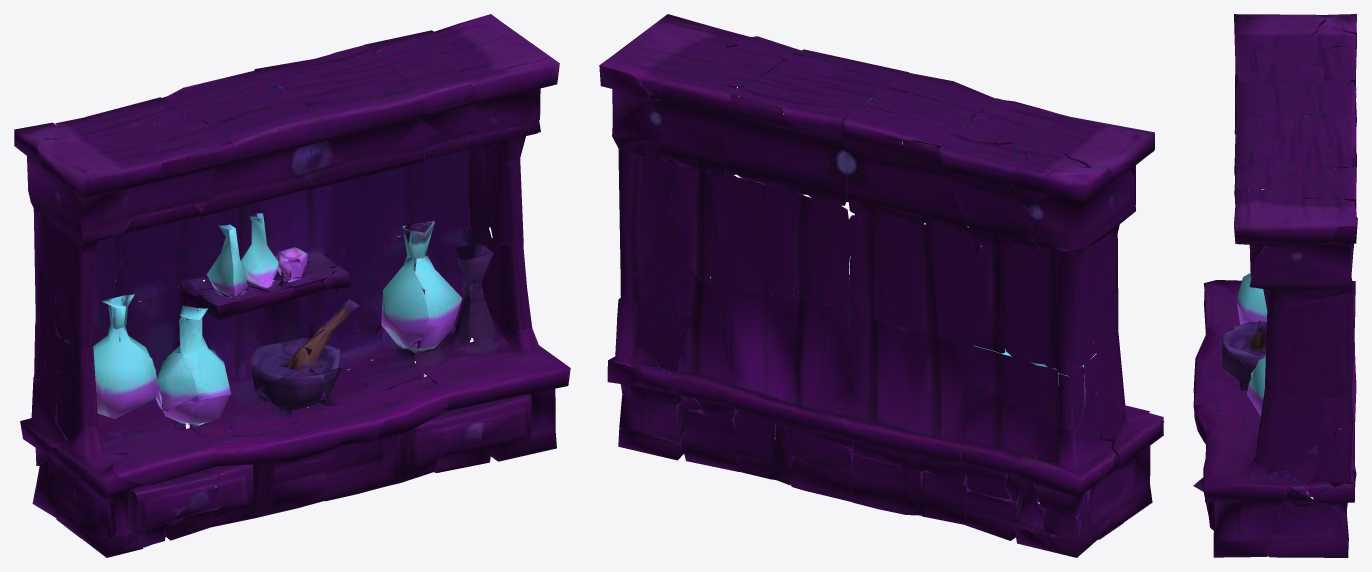
Rendered from alchemy_station.glb.
3 views of the same model, side by side, from view 1: azimuth 30°, elevation 25°; view 2: azimuth 150°, elevation 25°; view 3: azimuth 270°, elevation 25° (orthographic). The views are drawn at different scales.
Visible parts, largest first — view 1: Mesh_0; view 2: Mesh_0; view 3: Mesh_0.
Boxes of the visible parts, x1,y1,x2,y2 form: Mesh_0: [14, 14, 570, 557]; Mesh_0: [599, 14, 1164, 557]; Mesh_0: [1193, 14, 1357, 557].
Size of the model in its own units: 1.9 by 1.44 by 0.6255.
Materials: 1 (1 with a texture image).
